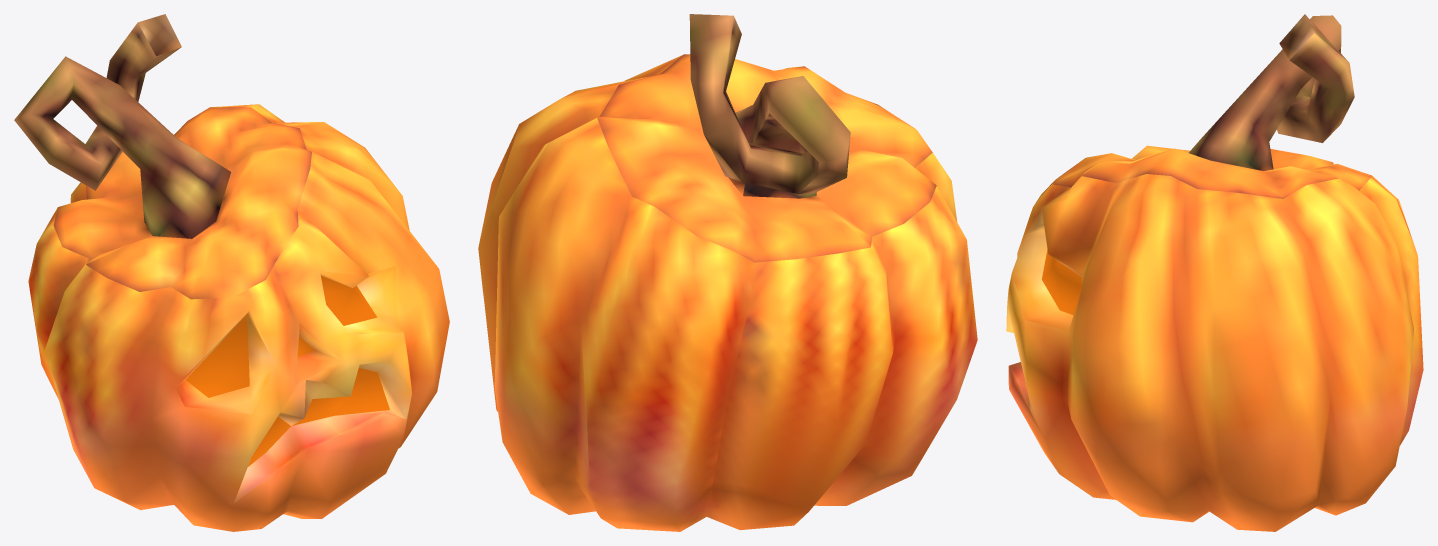
The model's file is 717fe561-0fca-4d41-ba15-dcda901b1d8a.glb.
3 views of the same model, side by side, from view 1: azimuth 30°, elevation 25°; view 2: azimuth 150°, elevation 25°; view 3: azimuth 270°, elevation 25° (orthographic). The views are drawn at different scales.
Parts seen in each view (by area): view 1: CarvedPumpkin03; view 2: CarvedPumpkin03; view 3: CarvedPumpkin03.
Part boxes in pixels (x1,y1,x2,y2): CarvedPumpkin03: [14, 14, 449, 531]; CarvedPumpkin03: [478, 14, 977, 531]; CarvedPumpkin03: [1006, 14, 1423, 531].
Size of what is drawn, in the model's own units: 0.6013 by 0.6958 by 0.5886.
Materials: 2 (2 with a texture image).
